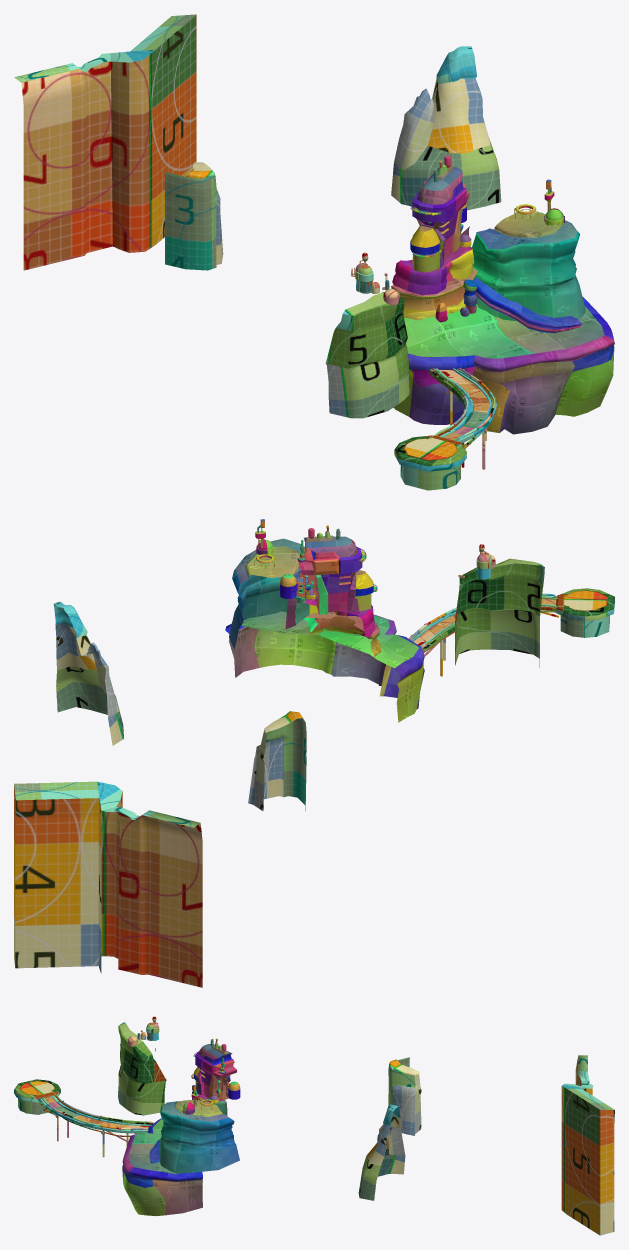
3 renders of one model, top to bottom at view 1: azimuth 30°, elevation 25°; view 2: azimuth 150°, elevation 25°; view 3: azimuth 270°, elevation 25°, orthographic. The views are drawn at different scales.
Parts seen in each view (by area): view 1: FarMtnRidge, MGBase, RMtnBack, RghtRockCollumn, LMtnMid, BackLMnt, RailPlatform, MainBuilding, Track, RockTier_02, Slide, RockTier_01 (+1 smaller); view 2: FarMtnRidge, MGBase, LMtnMid, RMtnBack, BackLMnt, RghtRockCollumn, MainBuilding, RailPlatform, RockTier_01, RockTier_02, Track, LwrBuilding; view 3: FarMtnRidge, RghtRockCollumn, MGBase, LMtnMid, RMtnBack, BackLMnt, MainBuilding, Track, RailPlatform.
Boxes of the visible parts, x1,y1,x2,y2 form: FarMtnRidge: [14, 14, 196, 270]; MGBase: [393, 296, 614, 434]; RMtnBack: [391, 46, 501, 210]; RghtRockCollumn: [472, 211, 585, 321]; LMtnMid: [325, 292, 409, 418]; BackLMnt: [164, 162, 223, 270]; RailPlatform: [394, 435, 466, 490]; MainBuilding: [412, 167, 468, 260]; Track: [429, 368, 496, 442]; RockTier_02: [392, 226, 473, 295]; Slide: [474, 277, 582, 333]; RockTier_01: [391, 268, 477, 320]; FarMtnRidge: [14, 781, 202, 987]; MGBase: [225, 611, 424, 722]; LMtnMid: [455, 558, 544, 667]; RMtnBack: [53, 601, 123, 745]; BackLMnt: [248, 711, 306, 810]; RghtRockCollumn: [229, 538, 325, 649]; MainBuilding: [297, 536, 362, 614]; RailPlatform: [555, 588, 614, 637]; RockTier_01: [305, 612, 381, 656]; RockTier_02: [285, 598, 375, 637]; Track: [410, 595, 557, 651]; LwrBuilding: [347, 570, 373, 612]; FarMtnRidge: [561, 1055, 614, 1235]; RghtRockCollumn: [159, 1097, 239, 1173]; MGBase: [122, 1118, 202, 1216]; LMtnMid: [118, 1022, 166, 1115]; RMtnBack: [358, 1104, 405, 1200]; BackLMnt: [388, 1057, 421, 1135]; MainBuilding: [195, 1044, 237, 1099]; Track: [40, 1095, 152, 1132]; RailPlatform: [14, 1079, 60, 1114].
Size of the model in its own units: 449 by 332 by 1004.
Materials: 2 (2 with a texture image).
